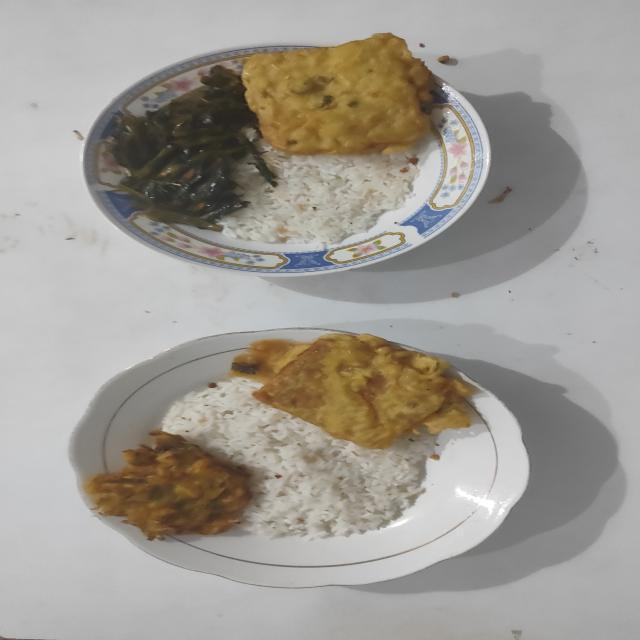nasi_putih: (161, 379, 438, 541), (216, 139, 420, 249)
tumis_kangkung: (110, 65, 278, 231)
